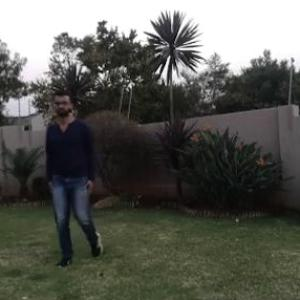follow: (46, 95, 91, 253)
